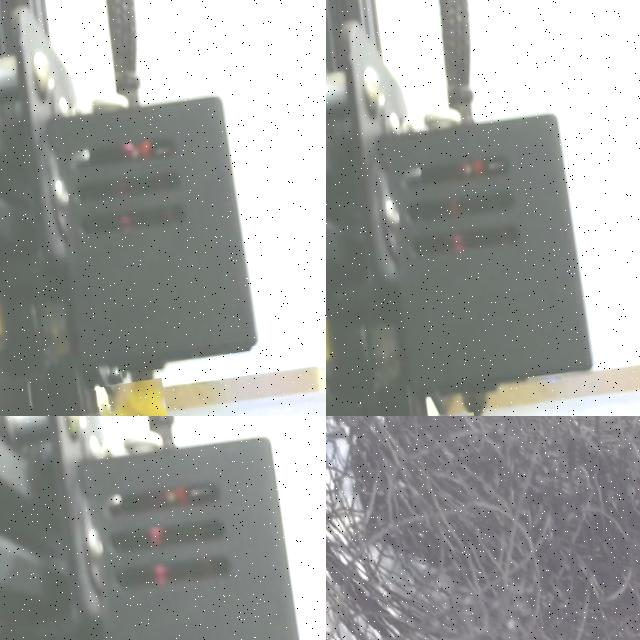spaghetti: (326, 416, 640, 640), (103, 379, 168, 416)
